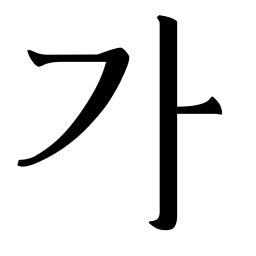Gaji: (145, 91, 199, 136)
